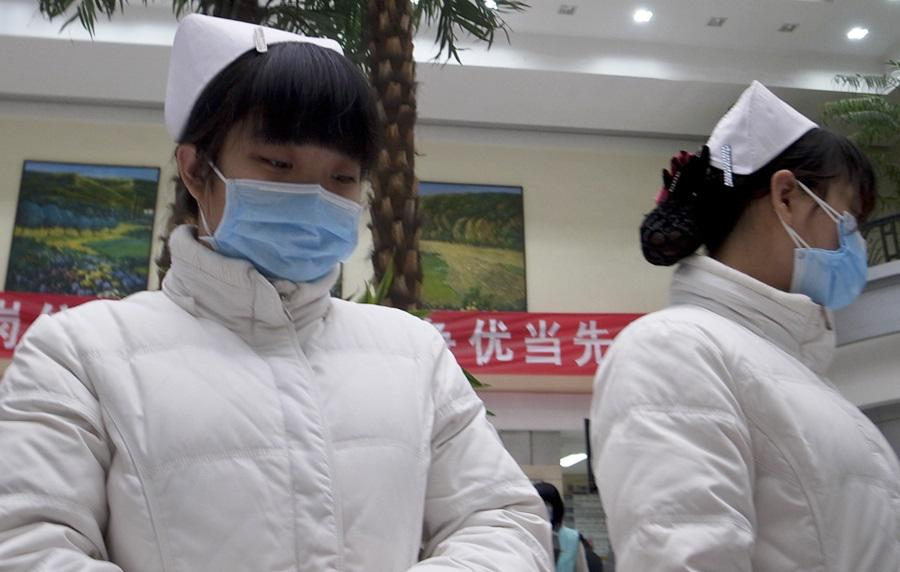OK: (224, 143, 365, 284), (755, 160, 872, 301)
